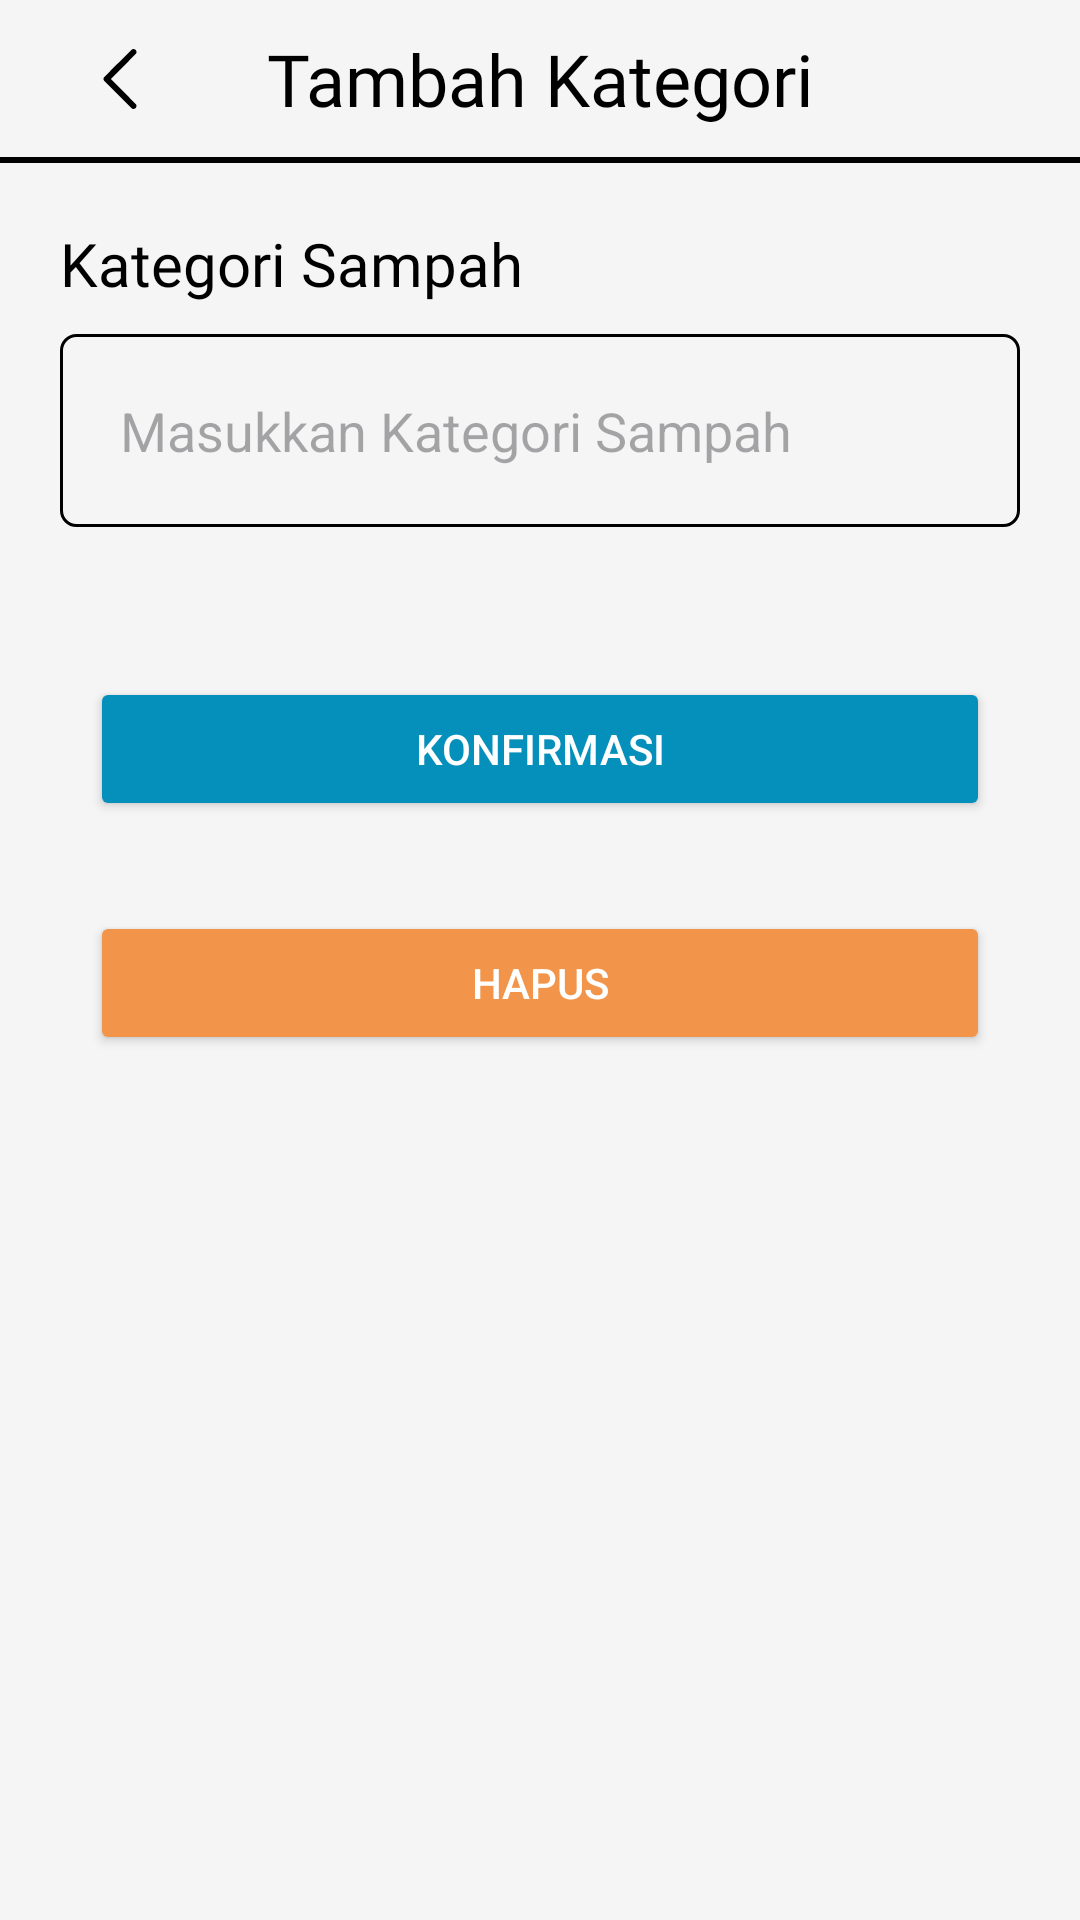

Icon bounding boxes for this 1080px x 1920px phone screenshot, format [x1=x1, y1=y1, x2=x2, y2=y2]:
back: [x1=103, y1=49, x2=137, y2=109]
